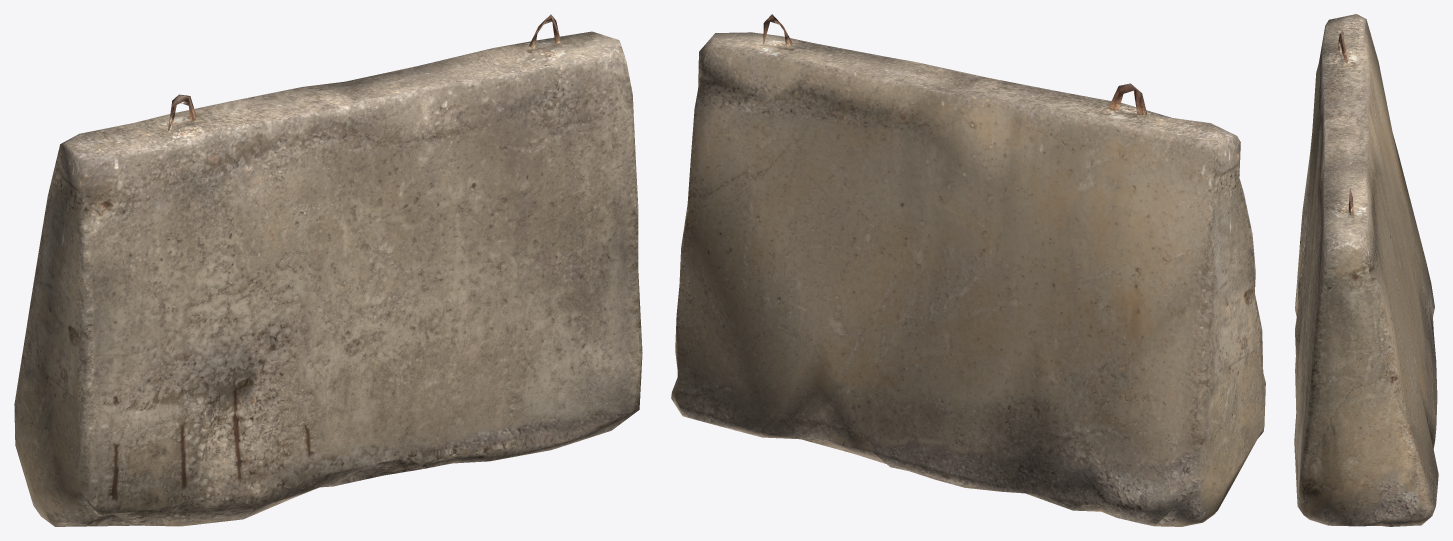
Rendered from concrete_road_barrier_02_opt.gltf.
The picture shows the model from 3 angles, left to right: view 1: azimuth 30°, elevation 25°; view 2: azimuth 150°, elevation 25°; view 3: azimuth 270°, elevation 25°; orthographic projection. The views are drawn at different scales.
Parts seen in each view (by area): view 1: concrete_road_barrier_02; view 2: concrete_road_barrier_02; view 3: concrete_road_barrier_02.
Part boxes in pixels (x1=…): concrete_road_barrier_02: x1=14, y1=14, x2=642, y2=526; concrete_road_barrier_02: x1=671, y1=14, x2=1265, y2=526; concrete_road_barrier_02: x1=1294, y1=14, x2=1438, y2=526.
Bounding box in the file's own units: 1.56 × 1.11 × 0.437.
Materials: 1 (1 with a texture image).
